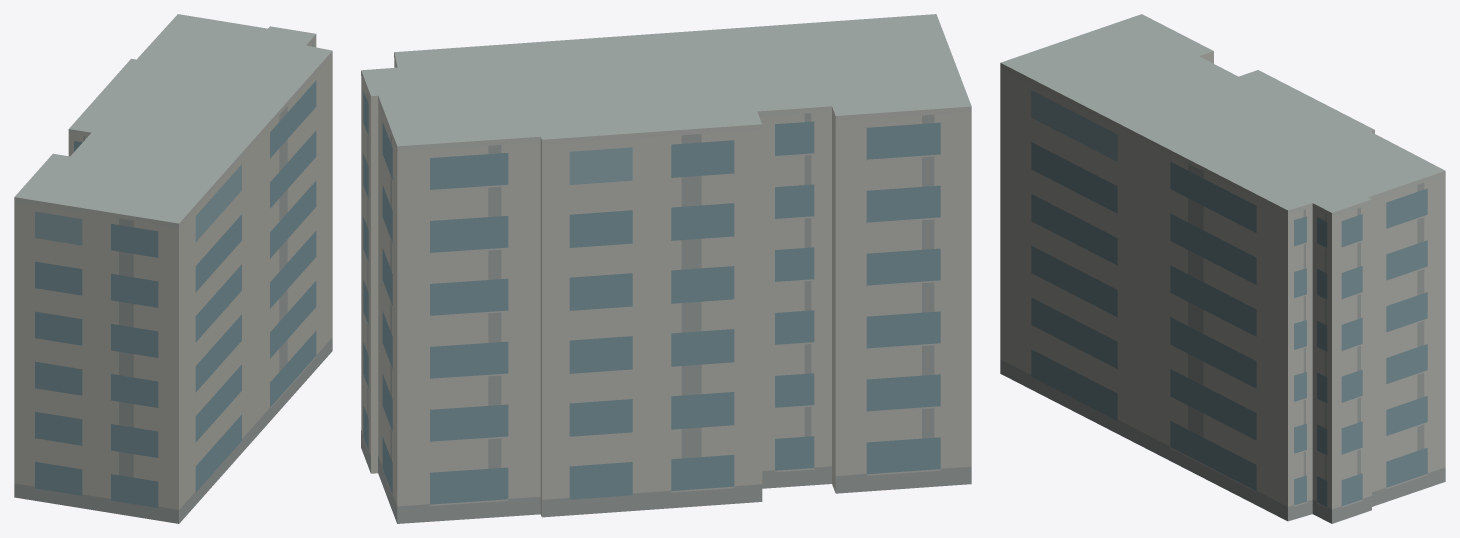
Rendered from survey-upis-32744297.glb.
3 views of the same model, side by side, from view 1: azimuth 30°, elevation 25°; view 2: azimuth 150°, elevation 25°; view 3: azimuth 270°, elevation 25° (orthographic). The views are drawn at different scales.
Visible parts, largest first — view 1: survey-upis-32744297.tmp; view 2: survey-upis-32744297.tmp; view 3: survey-upis-32744297.tmp.
Boxes of the visible parts, <box> form: survey-upis-32744297.tmp: <box>14,14,332,523</box>; survey-upis-32744297.tmp: <box>361,14,971,523</box>; survey-upis-32744297.tmp: <box>1000,14,1445,523</box>.
Bounding box in the file's own units: 23.34 × 17 × 22.07.
